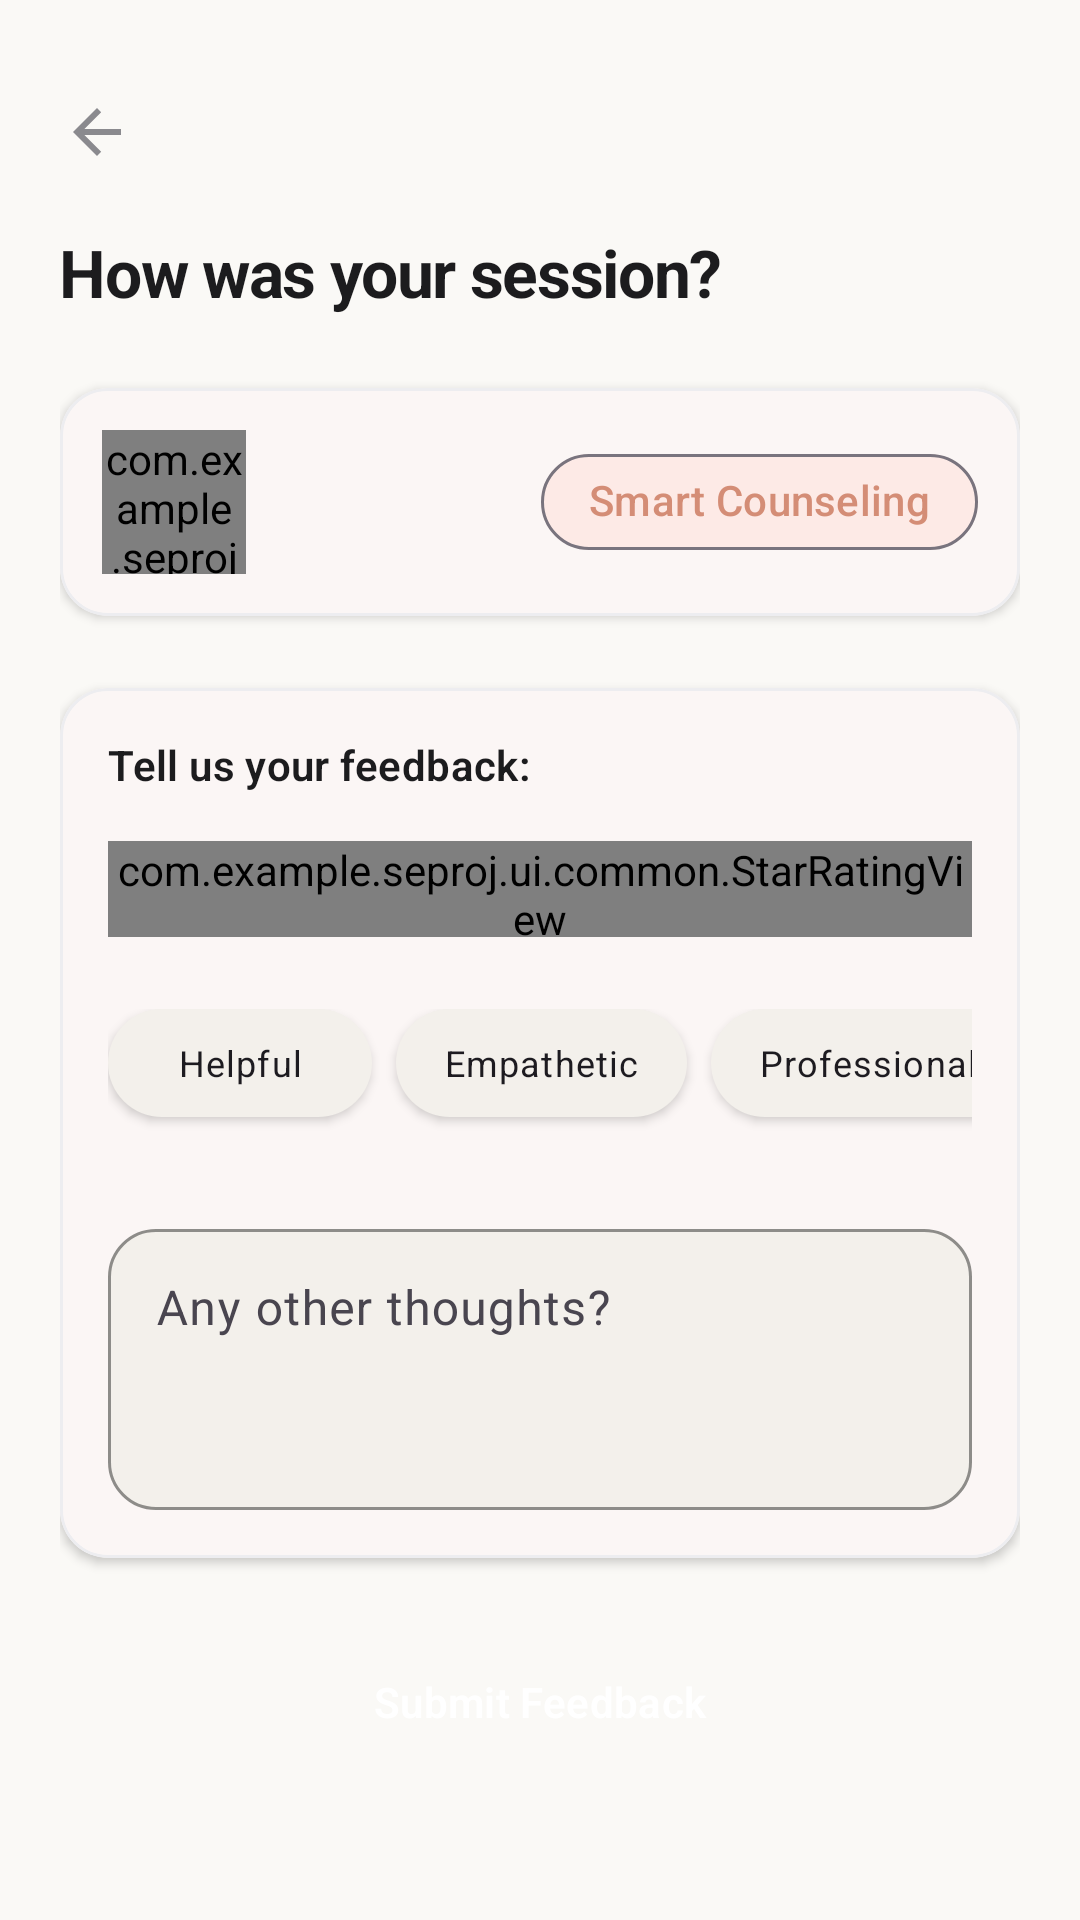

Locate icon controls on the screen. Image size 1080×1920, boxes as BBox(x1, y1, x2, y2).
Back: BBox(73, 108, 121, 156)
